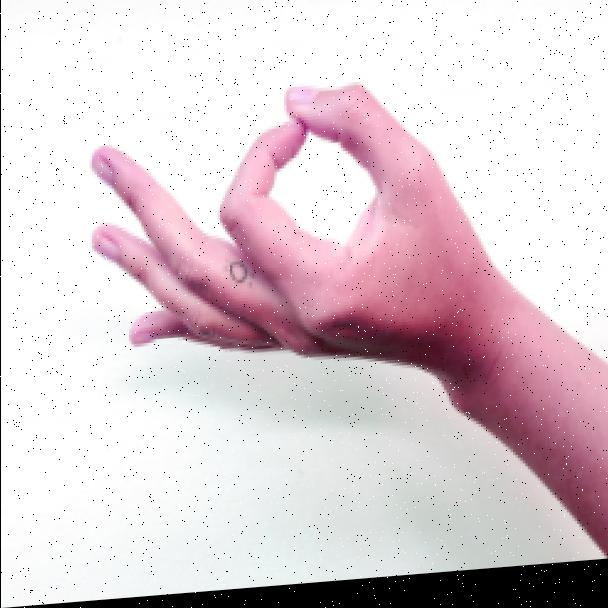five: (76, 60, 484, 412)
